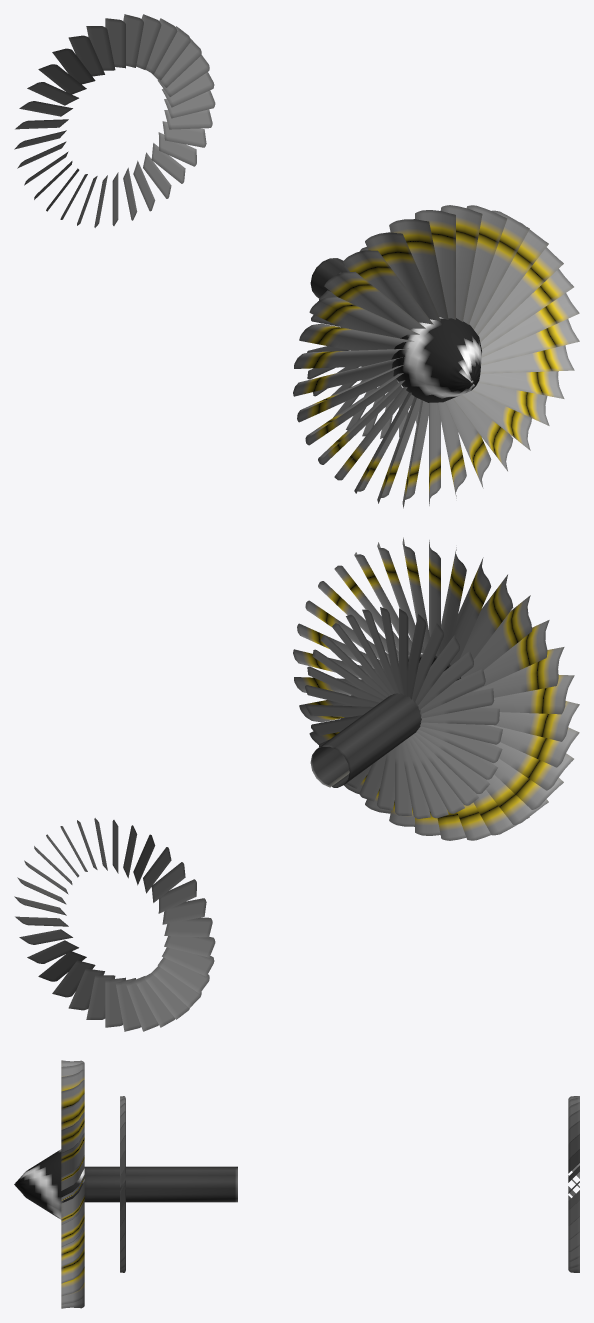
Rendered from turbofan_blades.obj.
3 renders of one model, top to bottom at view 1: azimuth 30°, elevation 25°; view 2: azimuth 150°, elevation 25°; view 3: azimuth 270°, elevation 25°, orthographic. The views are drawn at different scales.
Visible parts, largest first — view 1: Blades; view 2: Blades; view 3: Blades.
Boxes of the visible parts, bbox=[...] form: Blades: bbox=[14, 14, 579, 508]; Blades: bbox=[14, 537, 579, 1031]; Blades: bbox=[14, 1060, 579, 1308].
Size of the model in its own units: 2.62 by 2.62 by 6.
